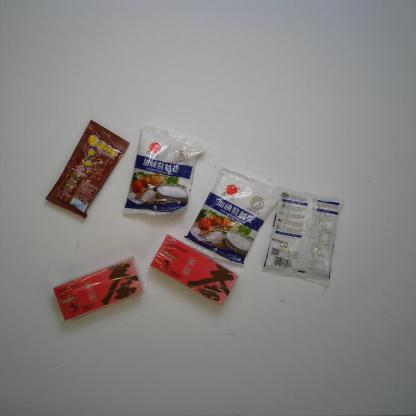Candy: (44, 119, 131, 220)
Instant Drink: (148, 233, 242, 309), (51, 254, 146, 323)
Seasoner: (177, 162, 282, 268), (258, 182, 346, 287), (118, 122, 206, 218)
